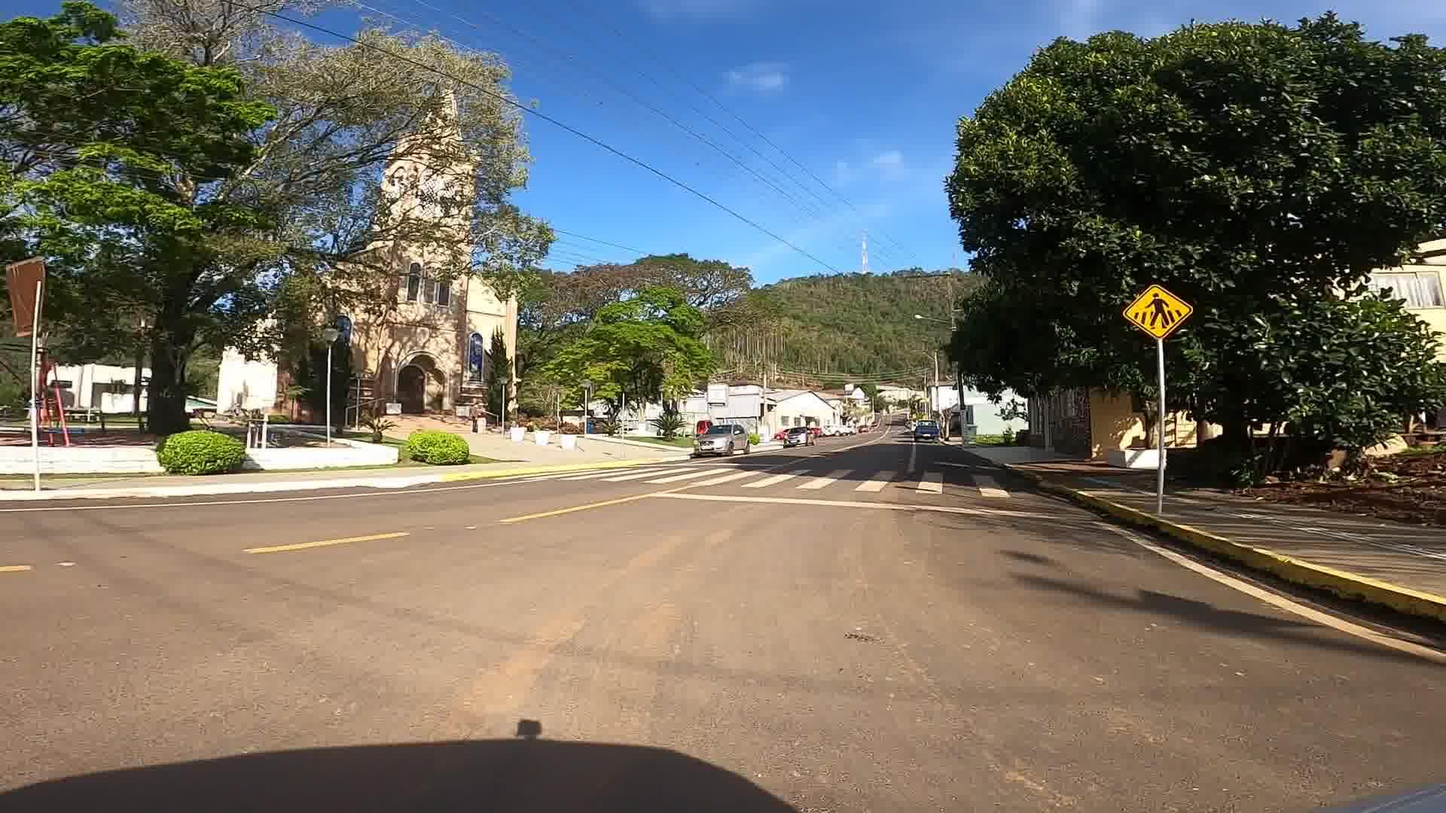A-32b: (1121, 283, 1194, 343)
